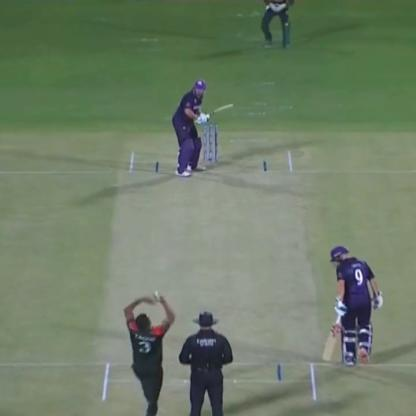ball: (149, 285, 164, 301)
bat: (323, 305, 346, 369), (202, 101, 235, 120)
pitch: (98, 153, 318, 411)
